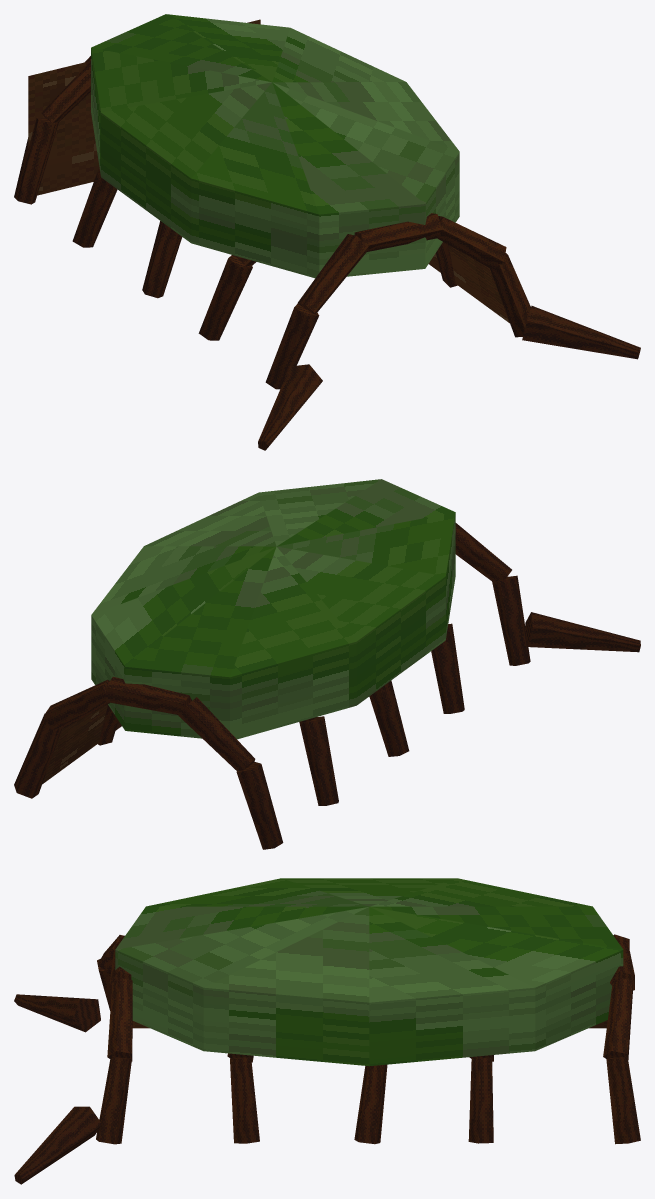
Rendered from root_tunnel.glb.
3 renders of one model, top to bottom at view 1: azimuth 30°, elevation 25°; view 2: azimuth 150°, elevation 25°; view 3: azimuth 270°, elevation 25°, orthographic. The views are drawn at different scales.
Visible parts, largest first — view 1: root_tunnel; view 2: root_tunnel; view 3: root_tunnel.
Boxes of the visible parts, bbox=[...] form: root_tunnel: bbox=[14, 14, 640, 450]; root_tunnel: bbox=[14, 479, 640, 849]; root_tunnel: bbox=[14, 878, 640, 1184].
Bounding box in the file's own units: 6.92 × 3.31 × 10.02.
3 materials, 3 textured.
